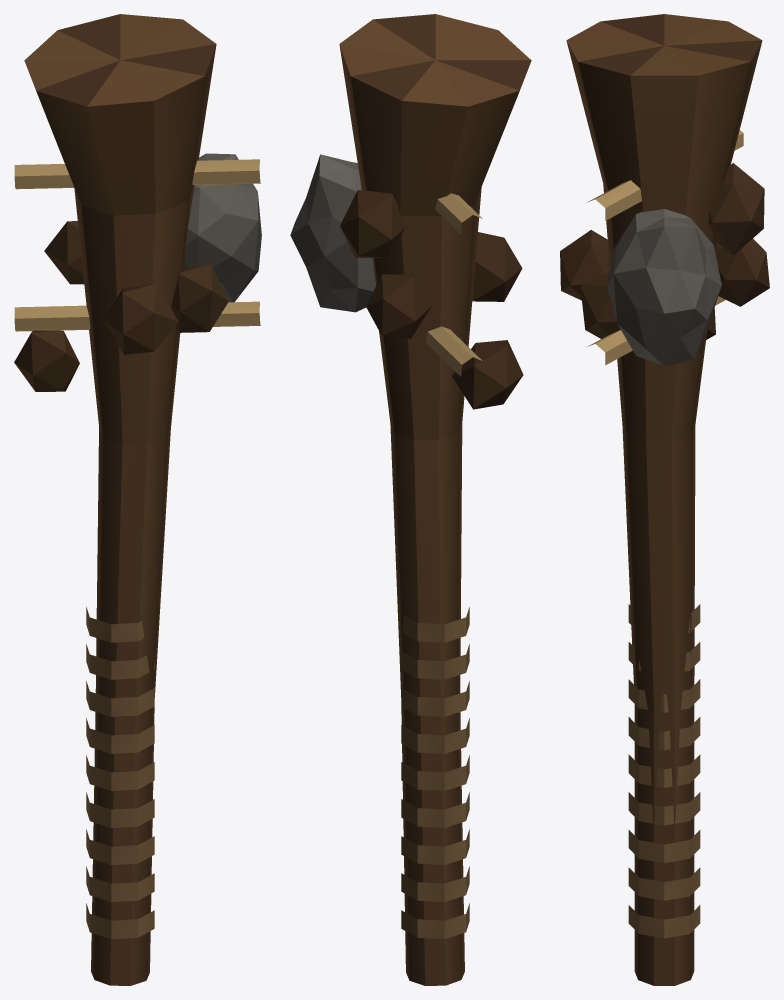
The model's file is club.glb.
3 renders of one model, left to right at view 1: azimuth 30°, elevation 25°; view 2: azimuth 150°, elevation 25°; view 3: azimuth 270°, elevation 25°, orthographic.
Visible parts, largest first — view 1: club_solid; view 2: club_solid; view 3: club_solid.
Boxes of the visible parts, x1,y1,x2,y2 form: club_solid: (14,14,261,985); club_solid: (290,14,531,985); club_solid: (560,14,769,985).
Bounding box in the file's own units: 0.194 × 0.7478 × 0.1518.
